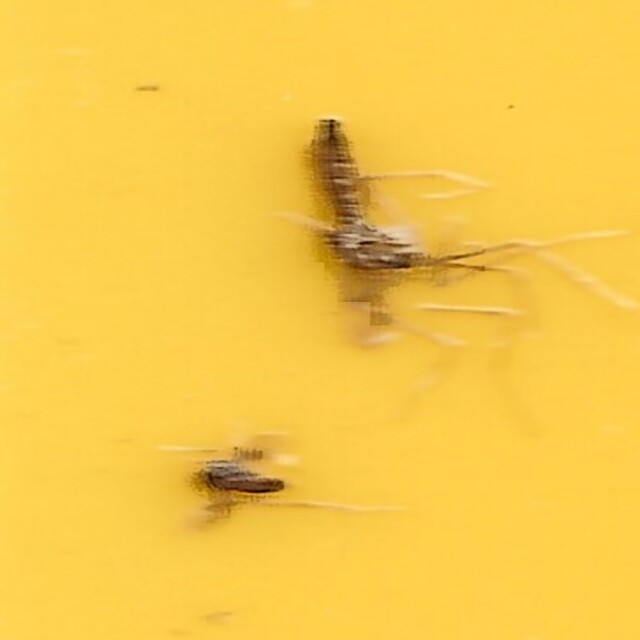Nematocera: (284, 113, 464, 295), (176, 431, 296, 527)
